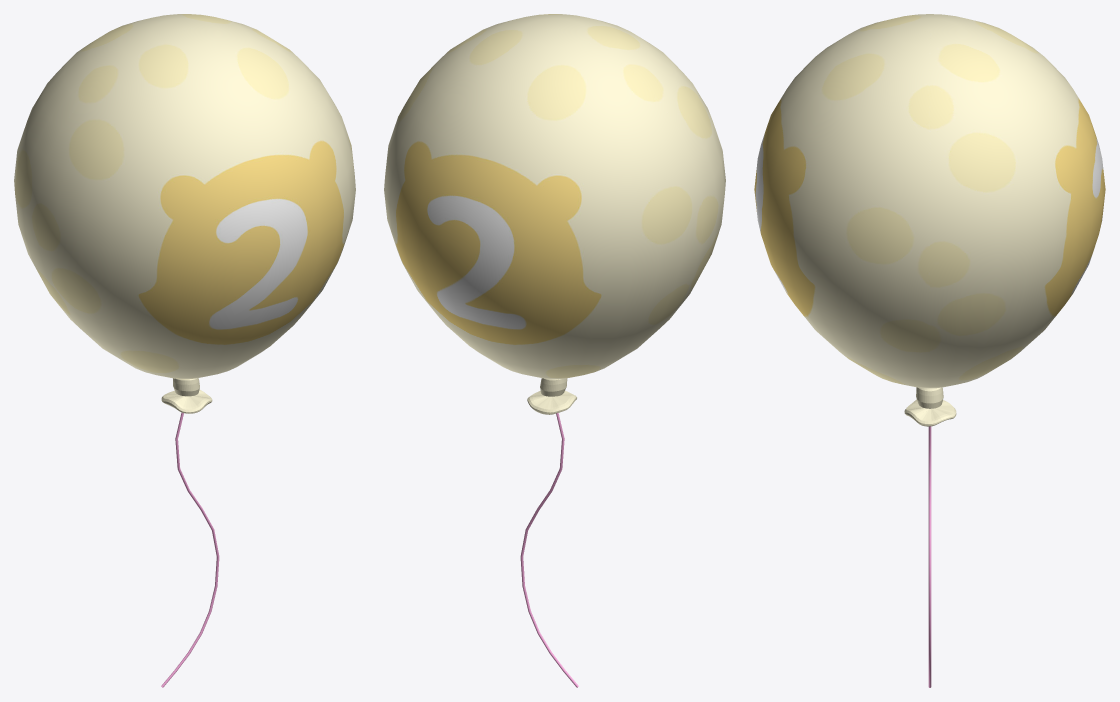
Rendered from balloon02.glb.
The picture shows the model from 3 angles, left to right: view 1: azimuth 30°, elevation 25°; view 2: azimuth 150°, elevation 25°; view 3: azimuth 270°, elevation 25°; orthographic projection. The views are drawn at different scales.
Visible parts, largest first — view 1: Object001; view 2: Object001; view 3: Object001.
Boxes of the visible parts, <box> form: Object001: <box>14,14,355,687</box>; Object001: <box>384,14,725,687</box>; Object001: <box>754,14,1105,687</box>.
Size of the model in its own units: 1.28 by 2.69 by 1.28.
Materials: 1 (1 with a texture image).
